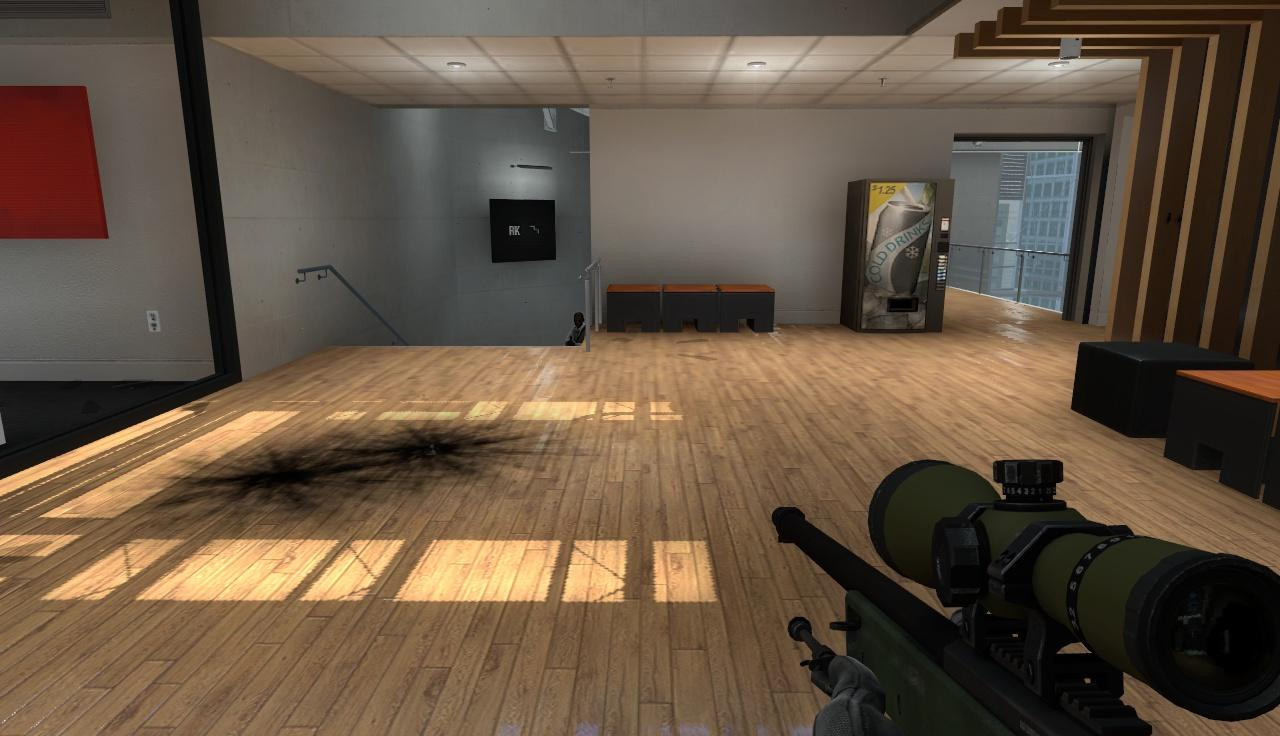sniper: (771, 452, 1280, 736)
tt: (567, 312, 586, 347)
tthead: (574, 312, 583, 327)
